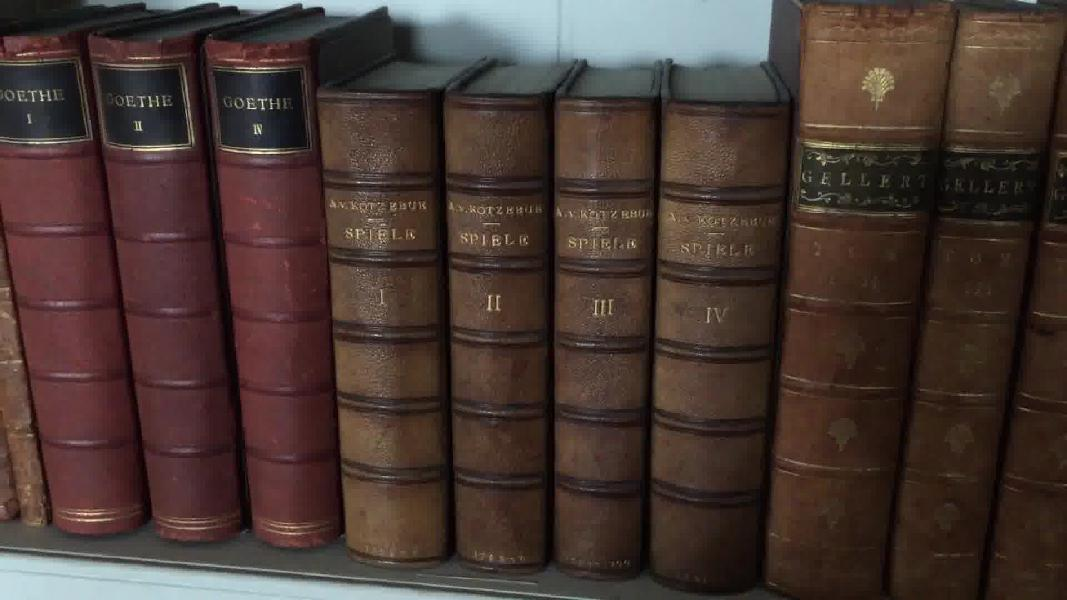Aa6-11_13: (6, 23, 340, 561)
Aa6-14_17: (312, 93, 775, 590)
